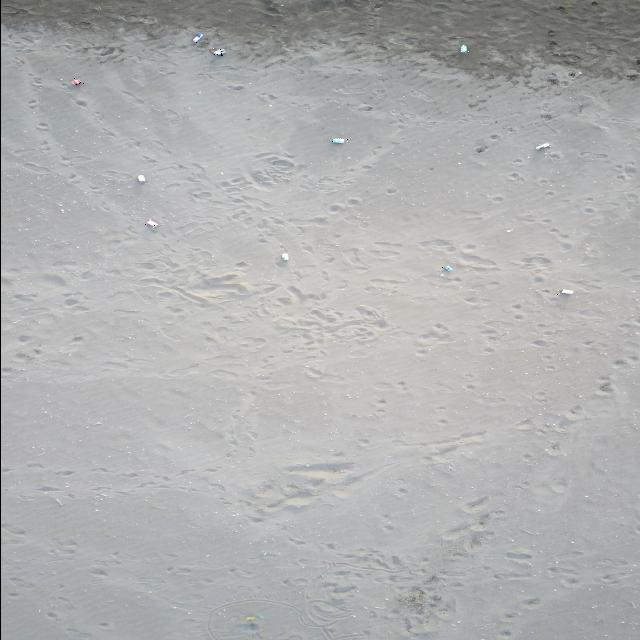Garbage: (535, 141, 550, 150), (329, 136, 347, 143), (192, 32, 203, 43), (208, 47, 223, 55), (144, 219, 155, 227), (244, 615, 256, 622), (556, 288, 572, 293), (136, 173, 144, 183), (567, 71, 580, 77), (72, 77, 83, 84), (442, 264, 452, 271), (459, 44, 467, 52), (280, 252, 287, 260)
